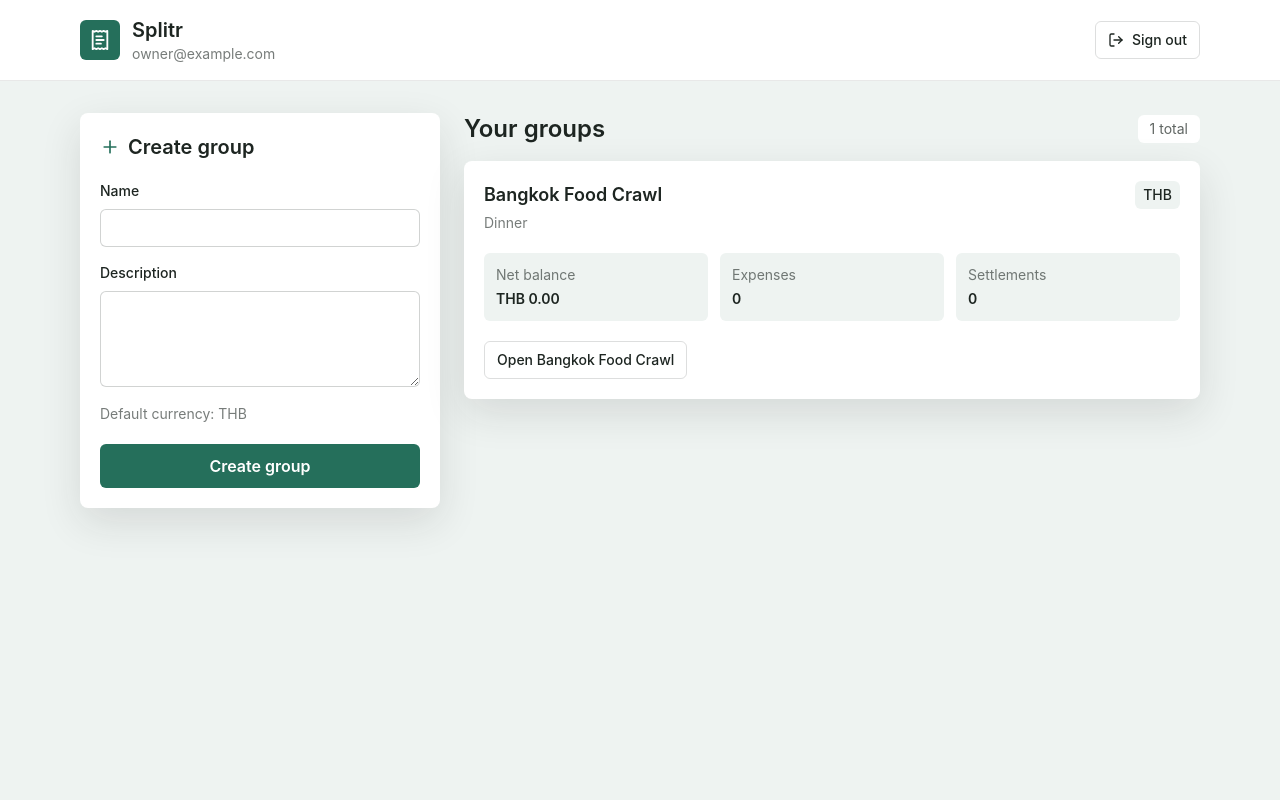
Test: App › creates an equal Split Expense from a Group detail view
Click the button "Open Bangkok Food Crawl" at (586, 360), box [484,341,687,379]
(page scrolled)
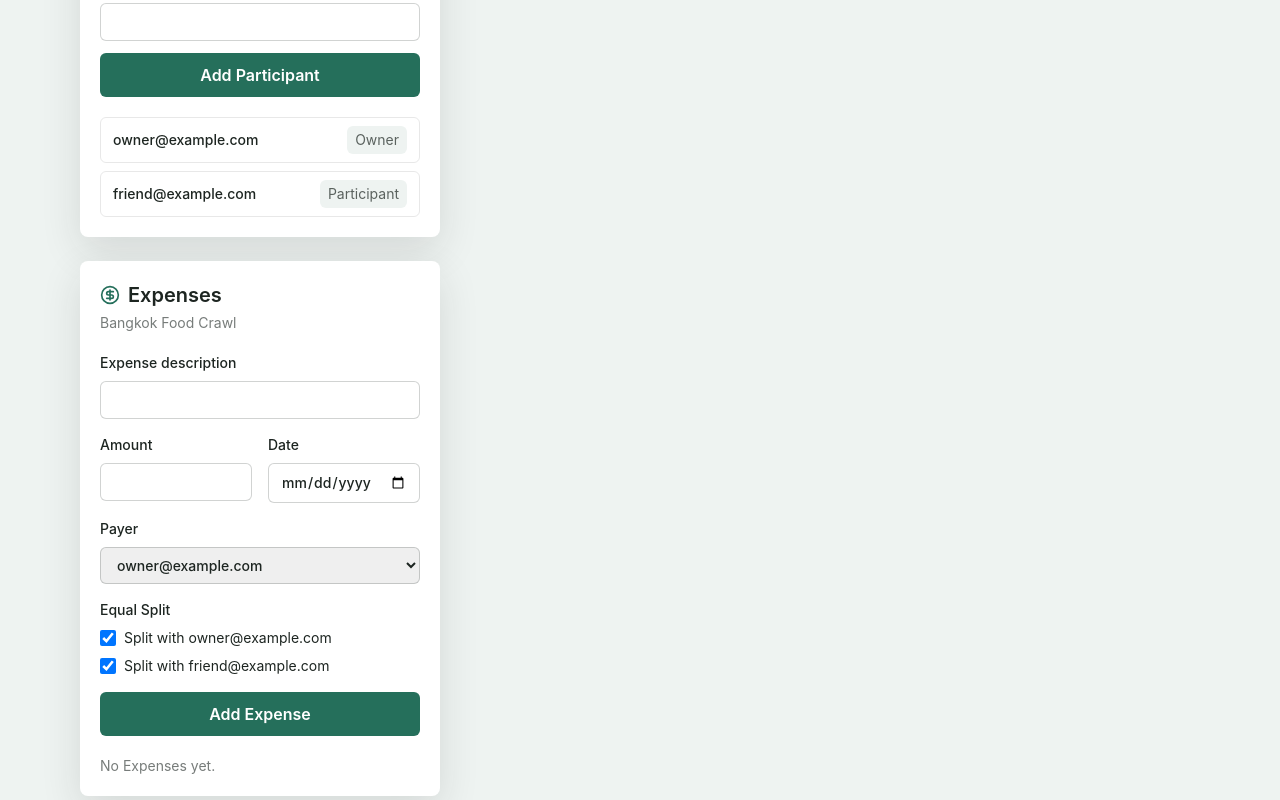
Type "Noodles" into the field labelled "Expense description" at (260, 400), box [100,381,420,419]
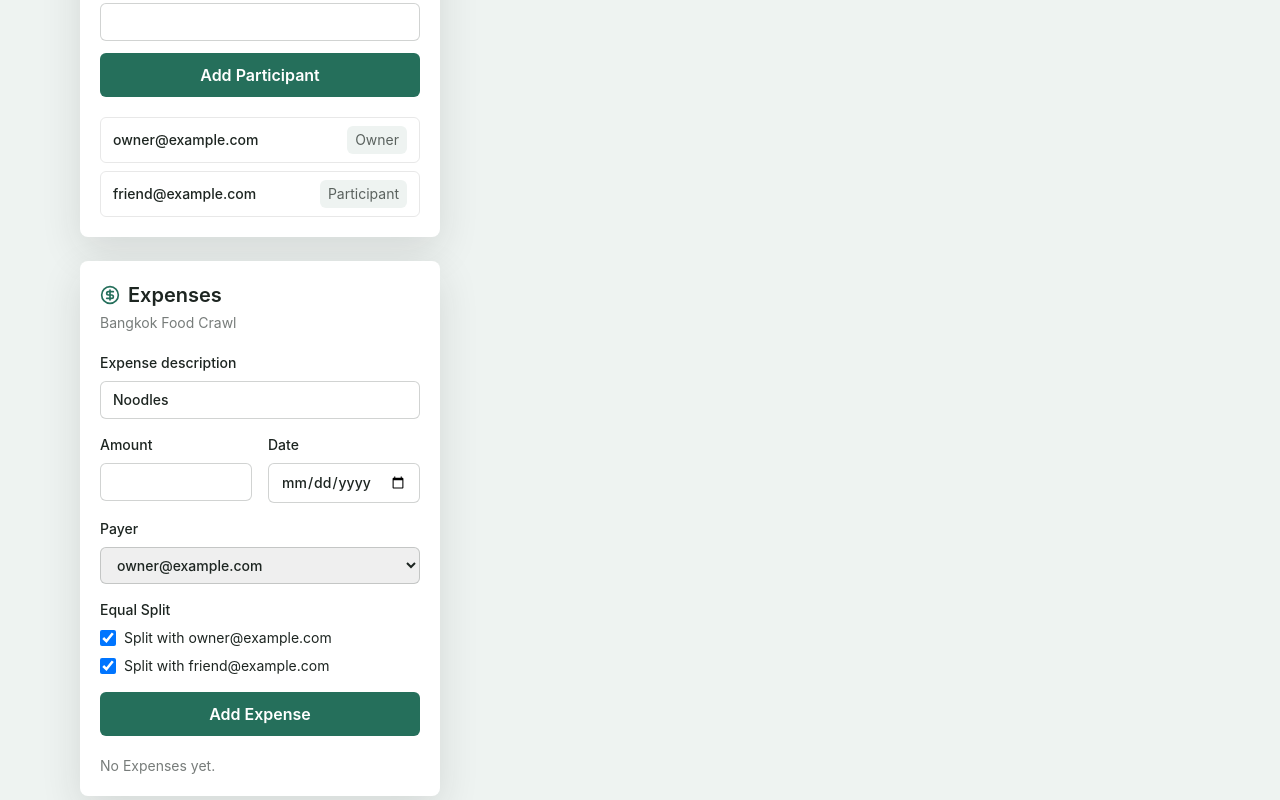
Type "100.01" into the field labelled "Amount" at (176, 482), box [100,463,252,501]
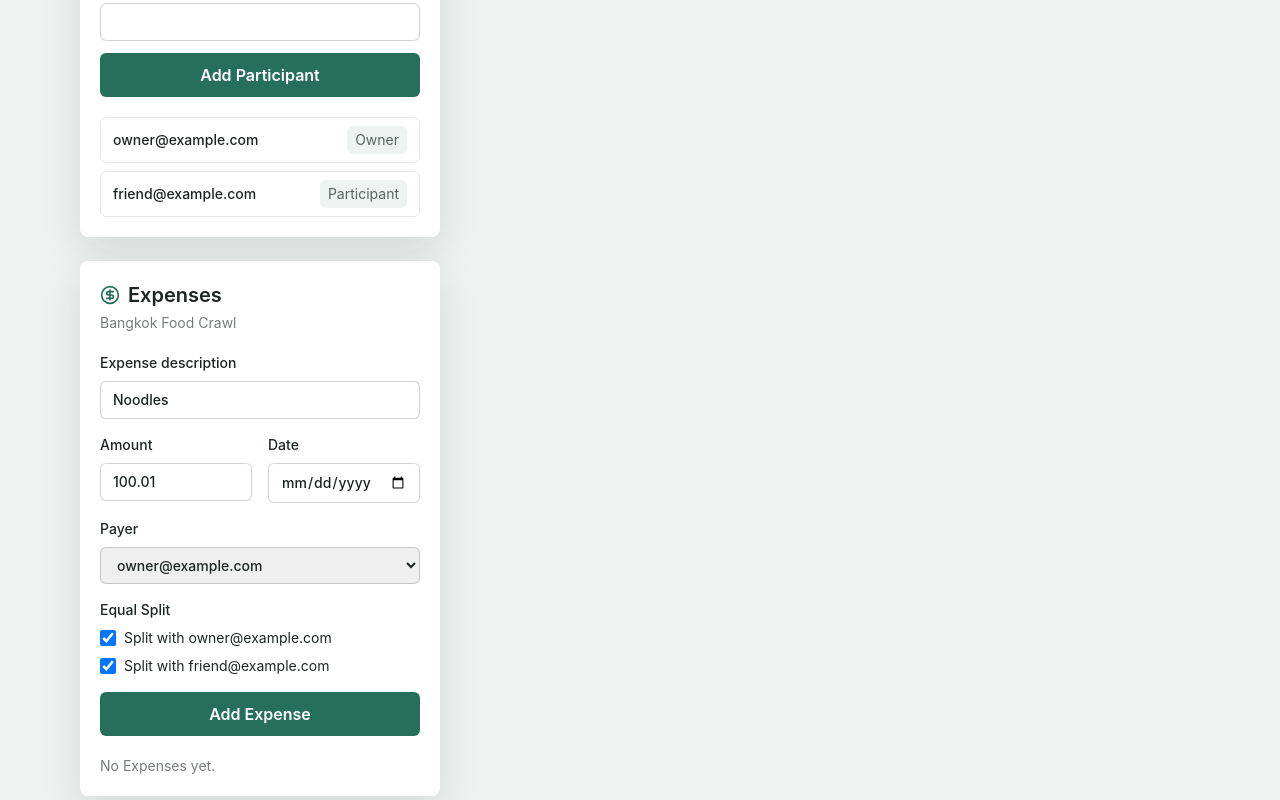
Type "2026-08-14" into the date field labelled "Date" at (344, 483), box [268,463,420,503]
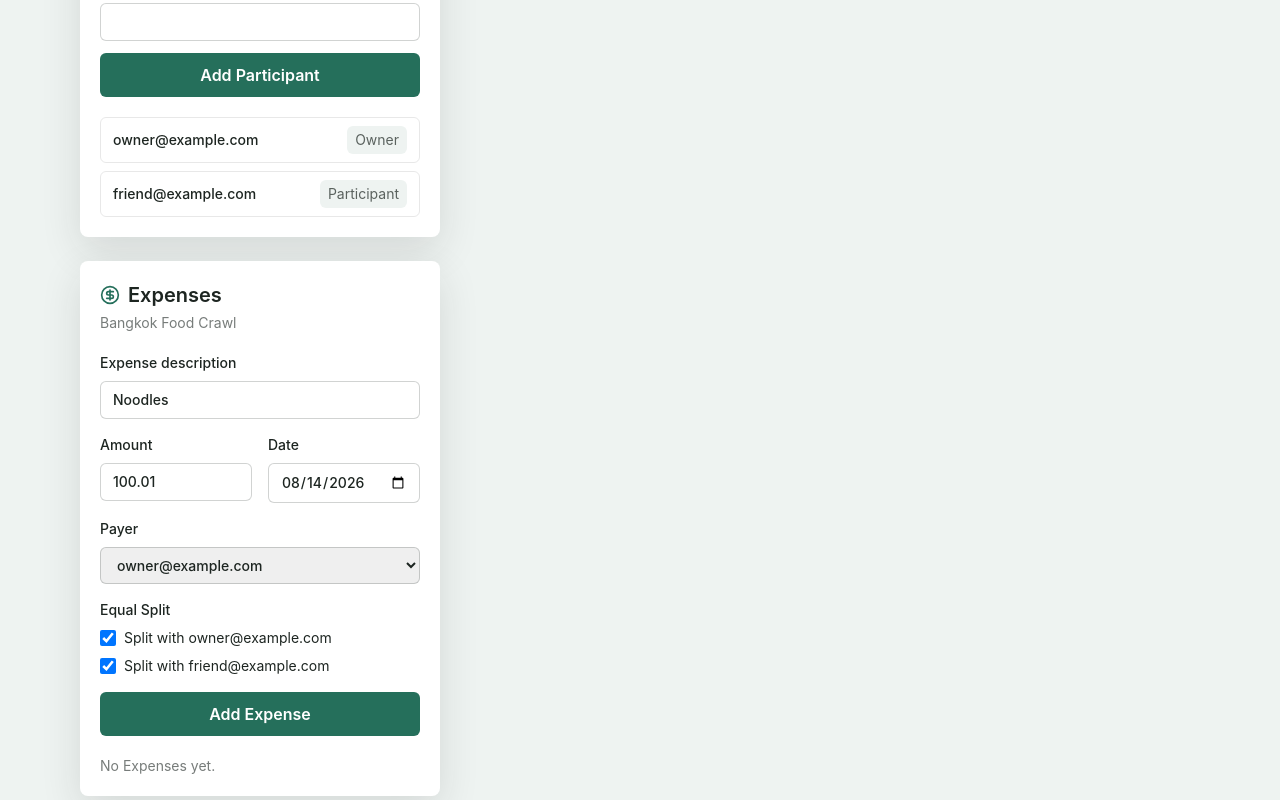
Select "owner@example.com" in the dropdown labelled "Payer" at (260, 566), box [100,547,420,584]
Click the button "Add Expense" at (260, 714), box [100,692,420,736]
(page scrolled)
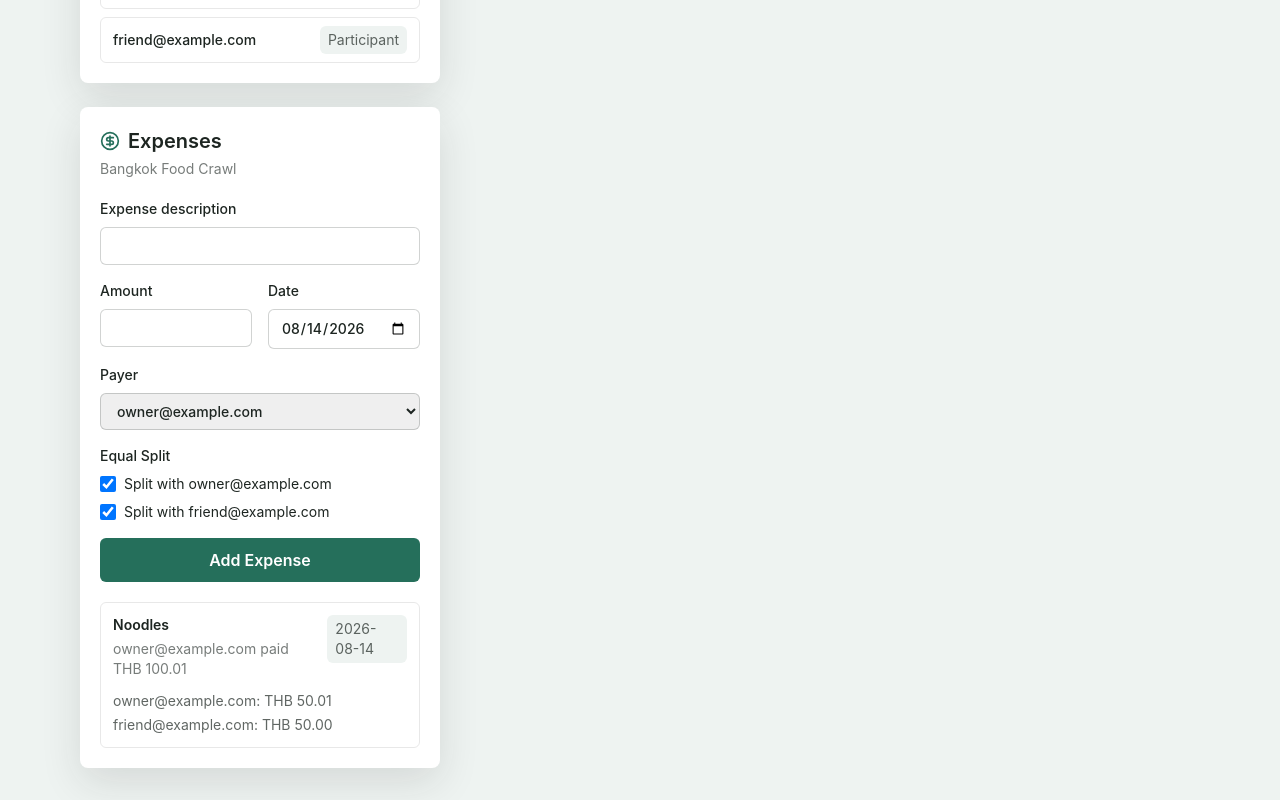
Expected: the heading "Noodles" is shown, [113,616,169,633]
Expected: the list item "owner@example.com: THB 50.01" is shown, [113,692,332,709]
Expected: the list item "friend@example.com: THB 50.00" is shown, [113,716,333,733]
